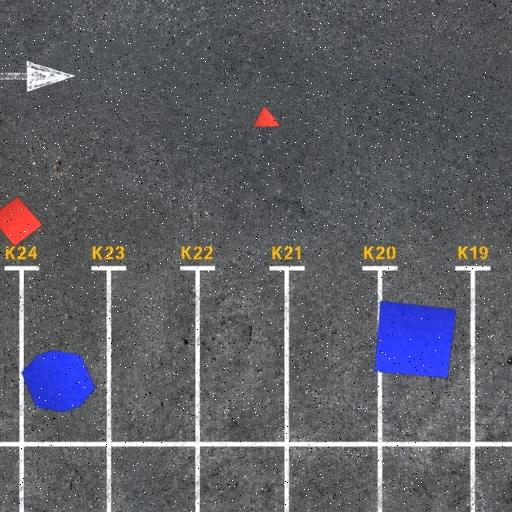BLUE_SQUARE: (374, 300, 456, 379)
RED_SQUARE: (0, 196, 43, 247)
